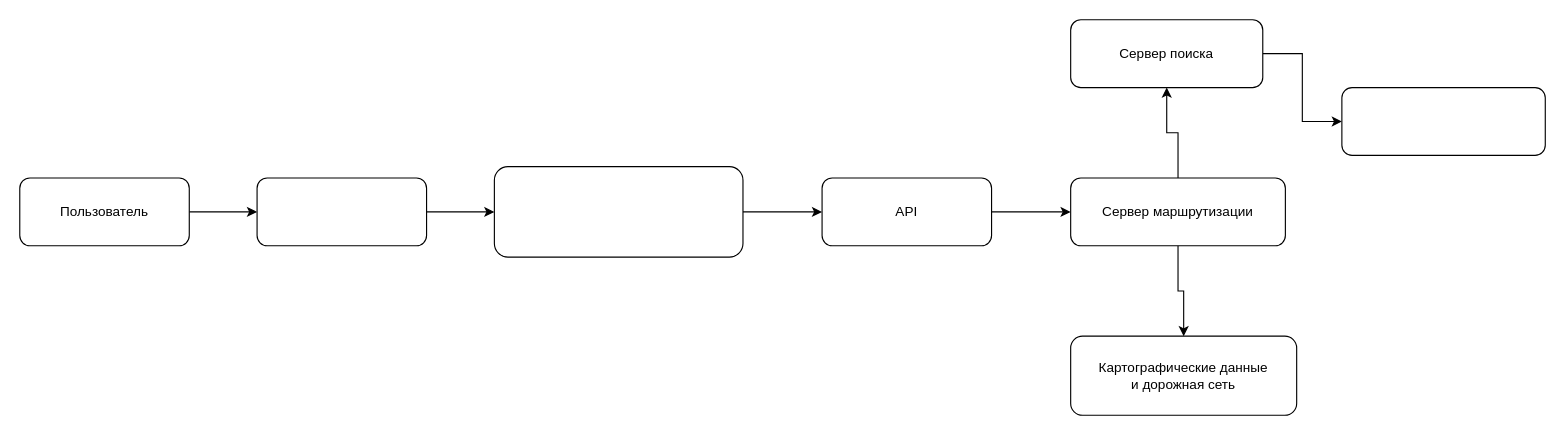
This 1565x435 diagram has some shape labels left out. Each missing label, with the centre of its shape:
Браузер: [341,211]
Интерфейс + клиентская часть: [618,211]
Хранилище данных: [1443,120]
